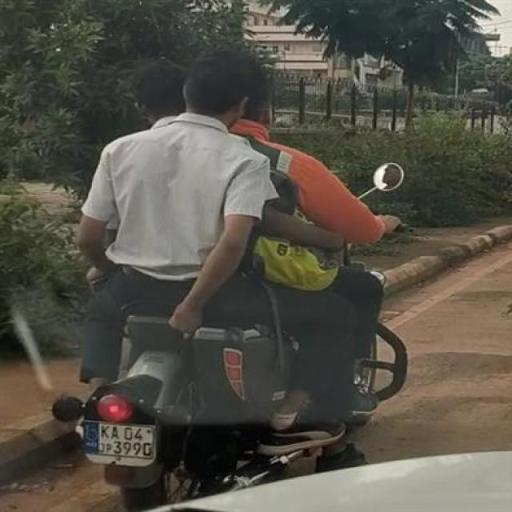tripple riding: (70, 52, 402, 318)
